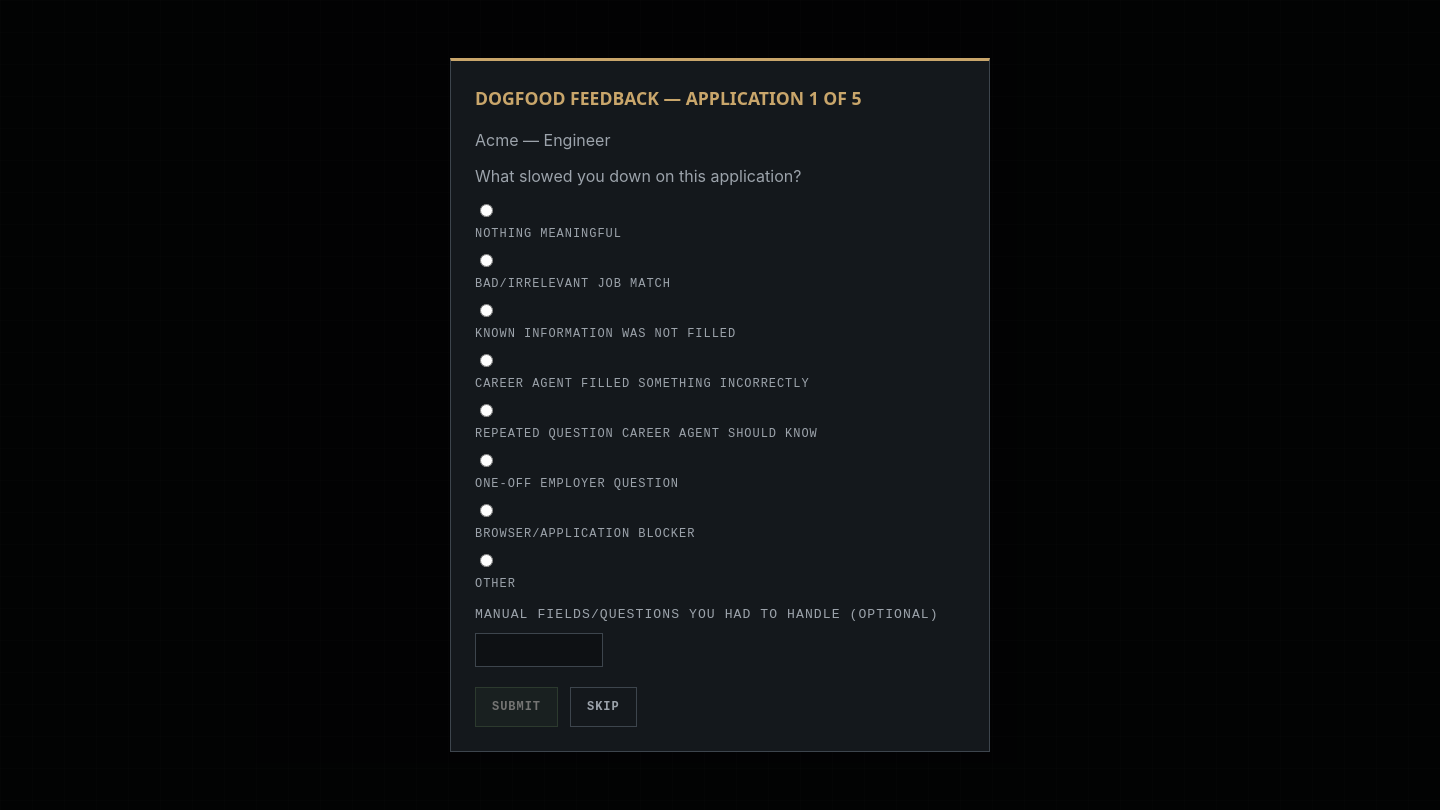
Test: DogfoodFeedbackDialog › only shows the optional note field once Other is selected
This screenshot has width=1440, height=810.
Expected: the text "optional note" is not shown
Click the radio button labelled "Other".
click(486, 561)  # box [480, 554, 493, 567]
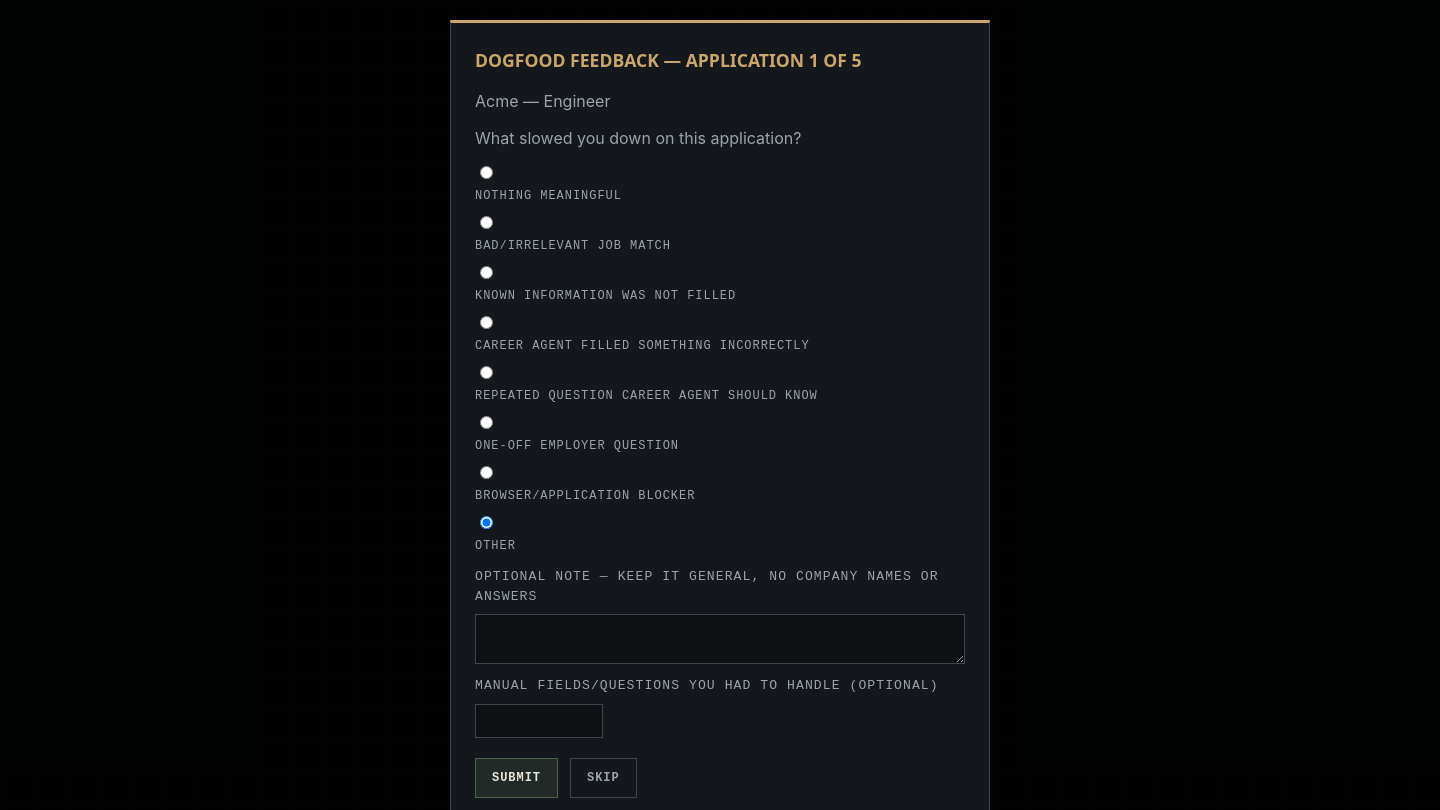
Expected: the text "Optional note — keep it general, no company names or answers" is shown, [475, 567, 965, 664]
